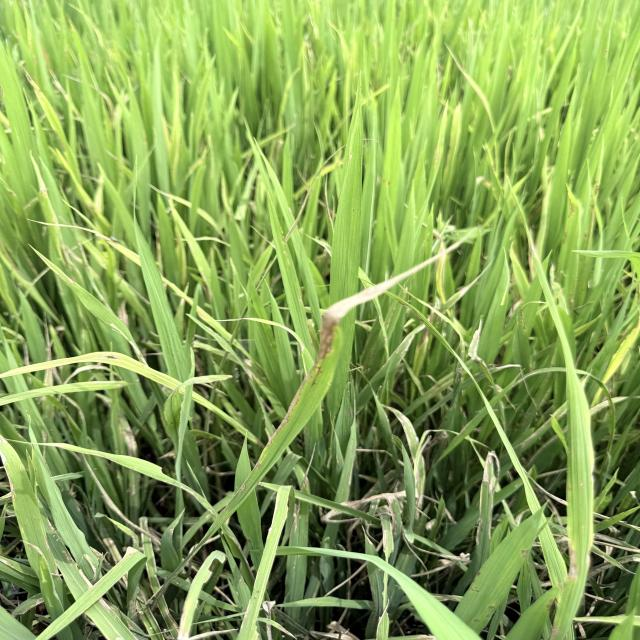Chay bia la: (254, 232, 469, 472)
